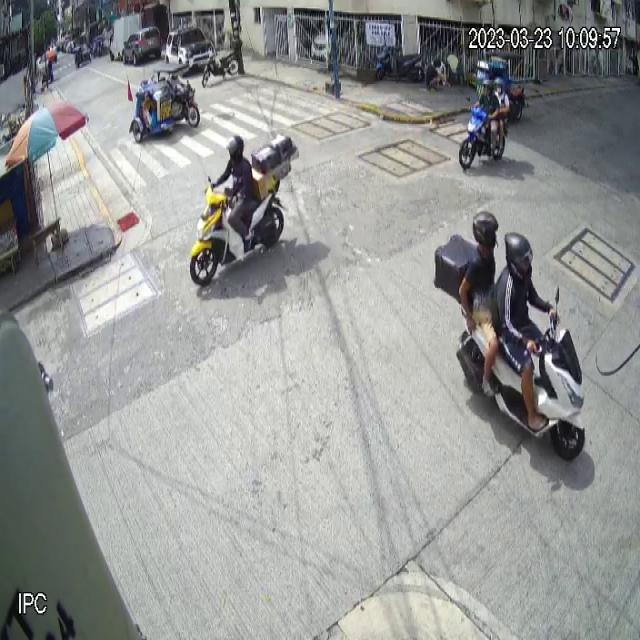Motorcycle: (433, 233, 587, 462), (190, 175, 289, 288), (458, 95, 510, 171)
Tricycle: (128, 62, 202, 144)
